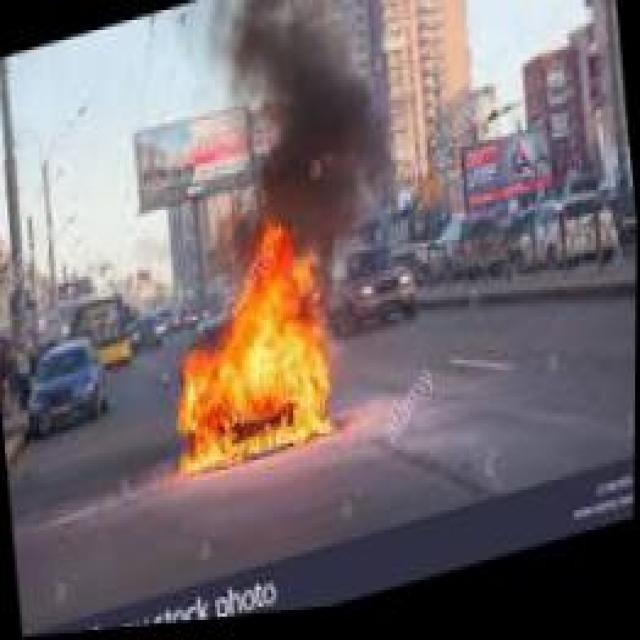Fire: (153, 206, 350, 506)
Smoke: (192, 0, 410, 243)
